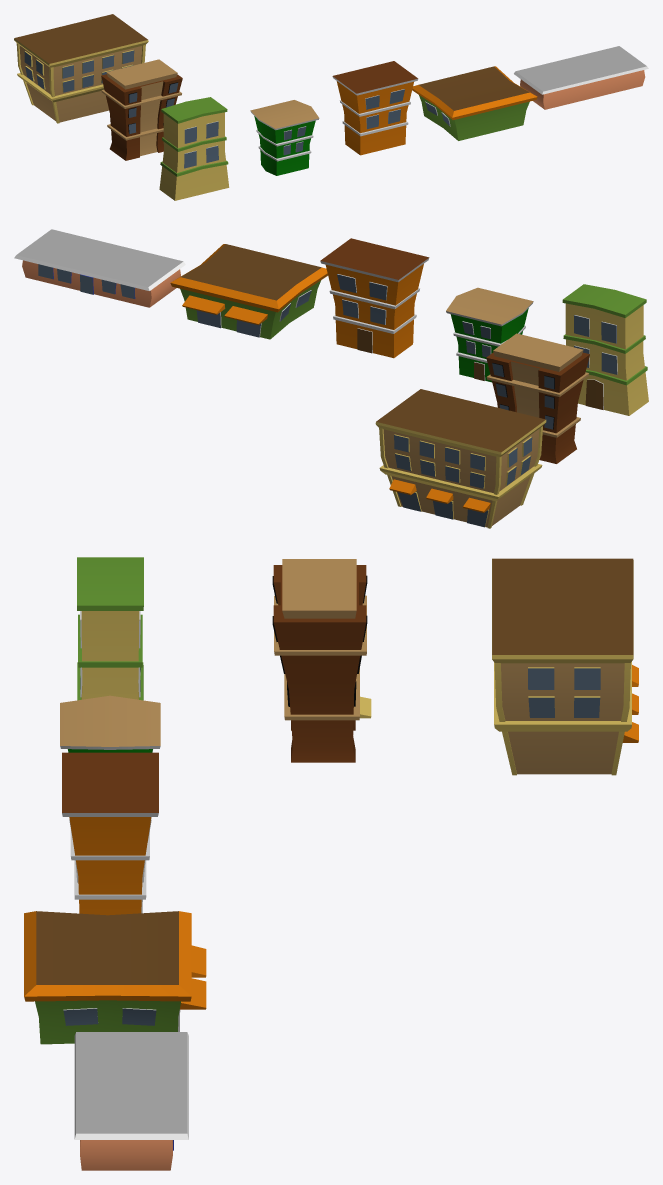
Rendered from Buildings.fbx.
3 renders of one model, top to bottom at view 1: azimuth 30°, elevation 25°; view 2: azimuth 150°, elevation 25°; view 3: azimuth 270°, elevation 25°, orthographic. The views are drawn at different scales.
Parts seen in each view (by area): view 1: polySurface20, polySurface6, polySurface9, polySurface13, polySurface4, polySurface22, polySurface5; view 2: polySurface20, polySurface9, polySurface4, polySurface6, polySurface13, polySurface22, polySurface5; view 3: polySurface20, polySurface9, polySurface13, polySurface22, polySurface4, polySurface6, polySurface5.
Part boxes in pixels (x1,y1,x2,y2): polySurface20: (14, 14, 148, 123); polySurface6: (159, 97, 229, 200); polySurface9: (412, 66, 537, 140); polySurface13: (101, 59, 182, 160); polySurface4: (332, 61, 418, 155); polySurface22: (514, 46, 648, 109); polySurface5: (250, 100, 319, 175); polySurface20: (375, 389, 546, 528); polySurface9: (170, 244, 327, 339); polySurface4: (320, 238, 429, 358); polySurface6: (562, 284, 648, 415); polySurface13: (486, 333, 589, 463); polySurface22: (14, 229, 185, 307); polySurface5: (446, 287, 533, 382); polySurface20: (492, 558, 638, 775); polySurface9: (24, 911, 206, 1044); polySurface13: (272, 559, 371, 762); polySurface22: (74, 1032, 188, 1170); polySurface4: (62, 752, 158, 915); polySurface6: (77, 557, 143, 700); polySurface5: (60, 695, 160, 752).
Bounding box in the file's own units: 6566 × 1026 × 3530.
